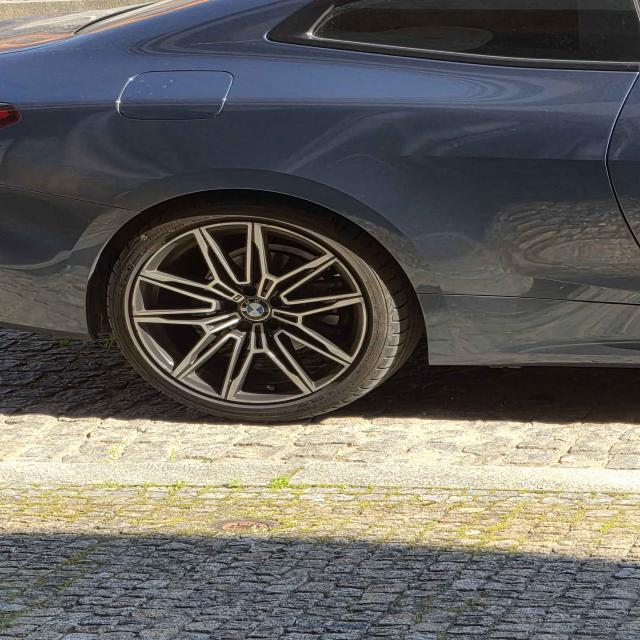jante: (124, 222, 369, 404)
parafuso: (222, 300, 238, 312), (270, 296, 282, 307), (239, 320, 251, 330), (267, 319, 280, 328), (244, 287, 256, 296)
roda: (106, 197, 423, 423)
